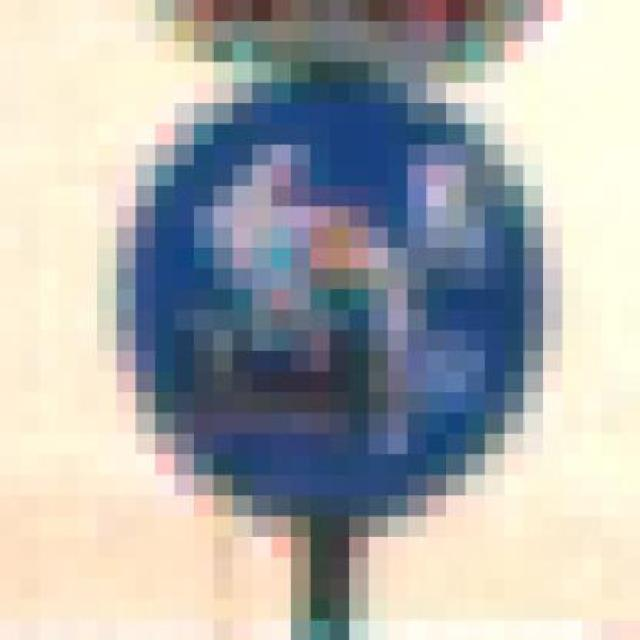Turn left ahead: (59, 61, 602, 537)
